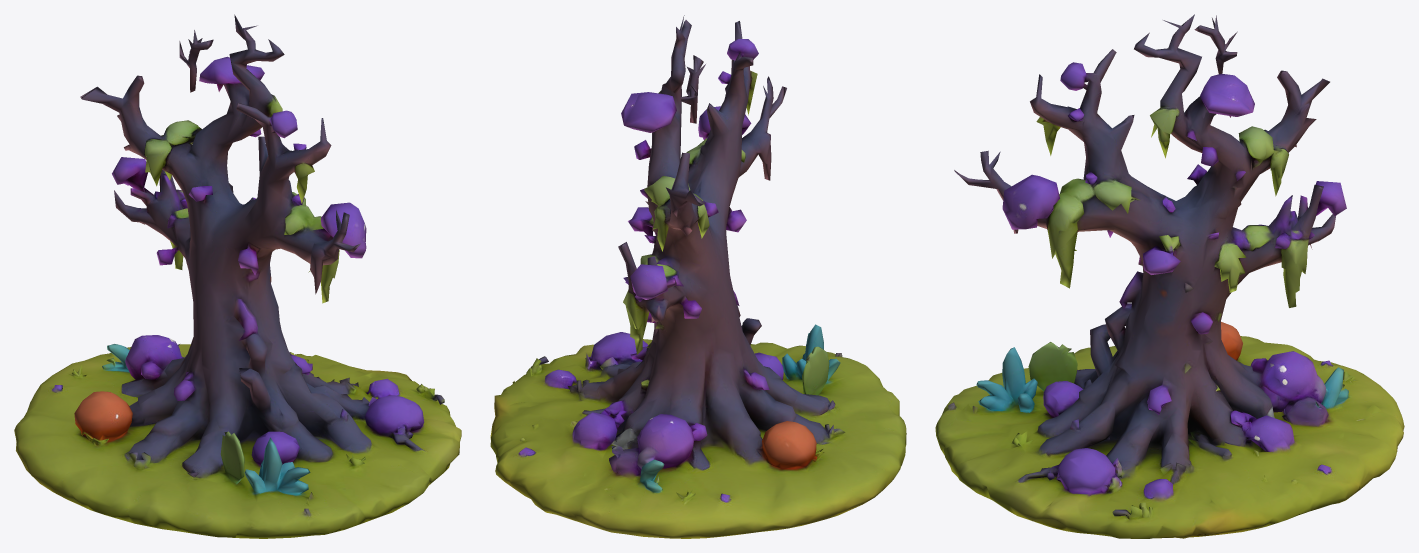
The model's file is prop_corrupt_tree_model.glb.
The picture shows the model from 3 angles, left to right: view 1: azimuth 30°, elevation 25°; view 2: azimuth 150°, elevation 25°; view 3: azimuth 270°, elevation 25°; orthographic projection. The views are drawn at different scales.
Parts seen in each view (by area): view 1: tripo_node_aed4d56c-a7d4-4252-bf78-531ccf79e28e; view 2: tripo_node_aed4d56c-a7d4-4252-bf78-531ccf79e28e; view 3: tripo_node_aed4d56c-a7d4-4252-bf78-531ccf79e28e.
Part boxes in pixels (x1,y1,x2,y2): tripo_node_aed4d56c-a7d4-4252-bf78-531ccf79e28e: (14,14,461,538); tripo_node_aed4d56c-a7d4-4252-bf78-531ccf79e28e: (490,15,906,538); tripo_node_aed4d56c-a7d4-4252-bf78-531ccf79e28e: (935,14,1404,538).
Size of the model in its own units: 0.9401 by 1 by 0.9724.
Materials: 1 (1 with a texture image).
